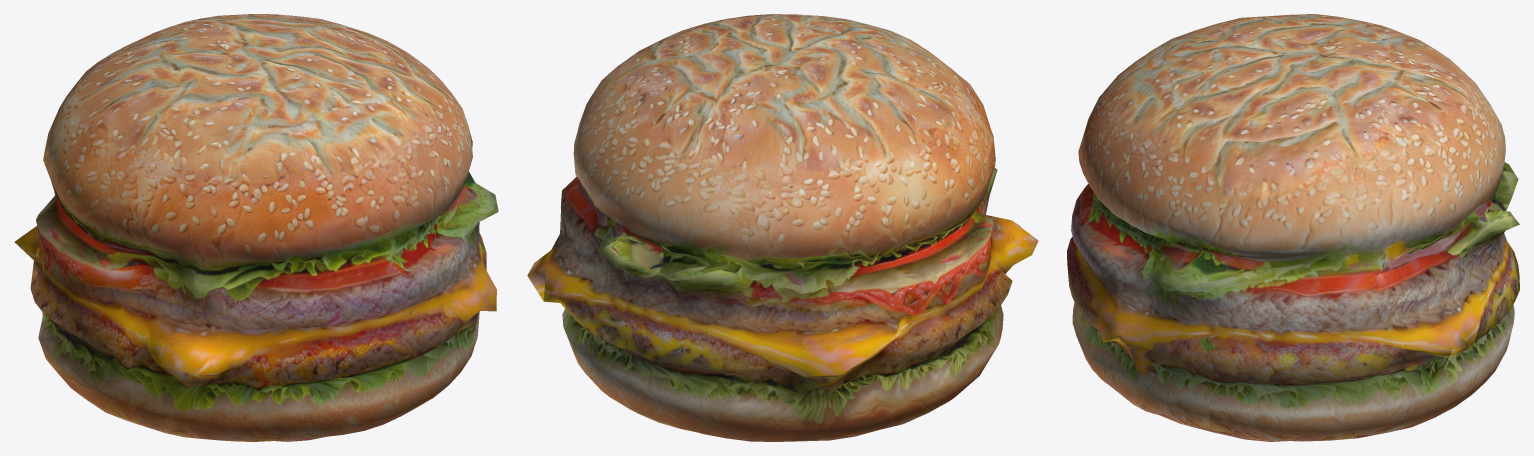
The model's file is burger.glb.
3 views of the same model, side by side, from view 1: azimuth 30°, elevation 25°; view 2: azimuth 150°, elevation 25°; view 3: azimuth 270°, elevation 25° (orthographic).
Visible parts, largest first — view 1: Hamburger; view 2: Hamburger; view 3: Hamburger.
Boxes of the visible parts, x1,y1,x2,y2 form: Hamburger: (14, 14, 498, 441); Hamburger: (527, 14, 1038, 441); Hamburger: (1067, 14, 1519, 441).
Bounding box in the file's own units: 0.1206 × 0.094 × 0.1185.
Materials: 1 (1 with a texture image).
